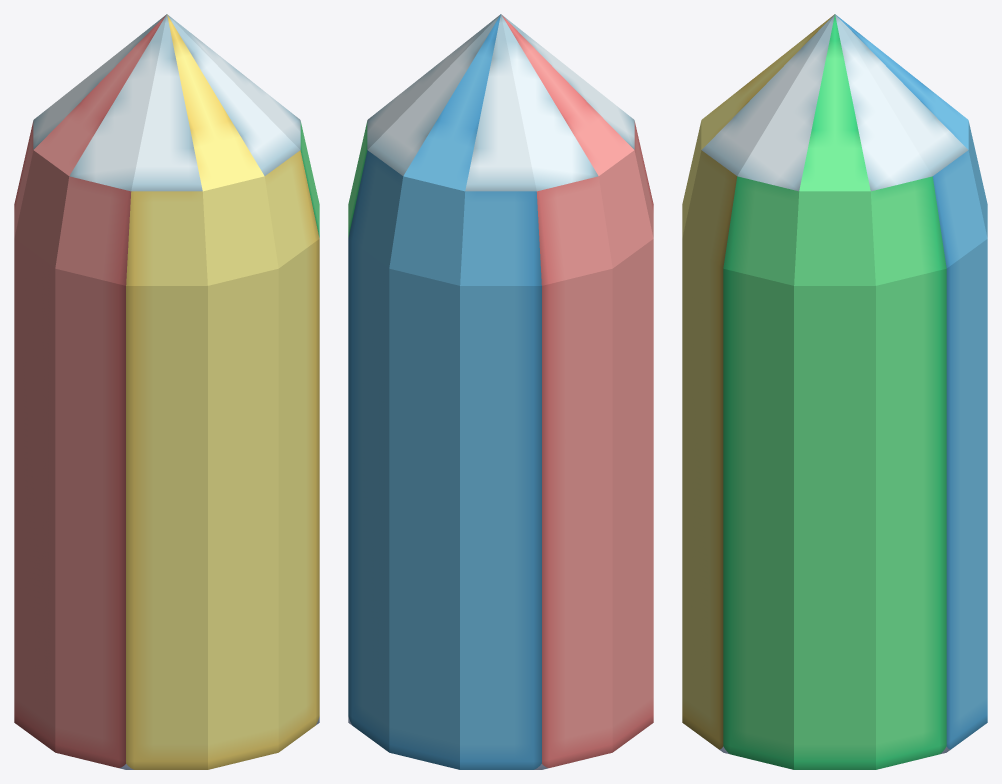
Rendered from center.fbx.
3 renders of one model, left to right at view 1: azimuth 30°, elevation 25°; view 2: azimuth 150°, elevation 25°; view 3: azimuth 270°, elevation 25°, orthographic.
Parts seen in each view (by area): view 1: cylinder; view 2: cylinder; view 3: cylinder.
Boxes of the visible parts, x1,y1,x2,y2 form: cylinder: (14,14,319,769); cylinder: (348,14,653,769); cylinder: (682,14,987,769).
Bounding box in the file's own units: 100 × 250 × 100.
1 material, 1 textured.
